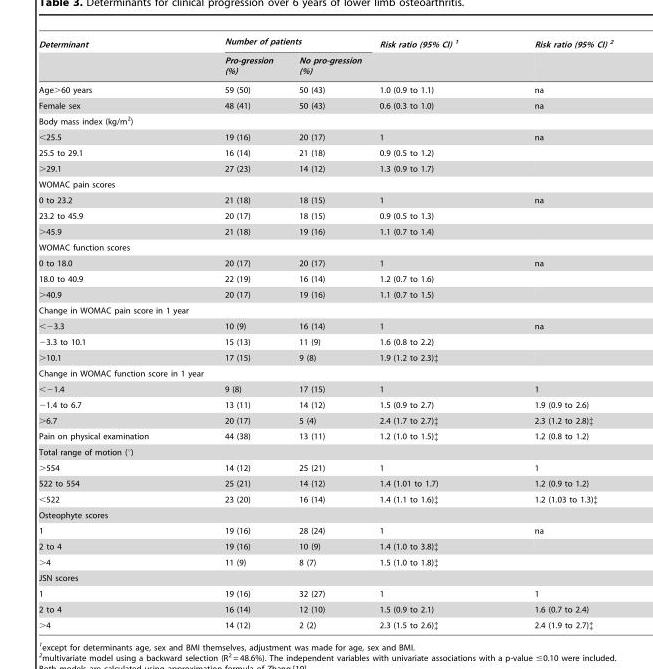table: (37, 36, 613, 630)
table column: (37, 36, 185, 630), (370, 36, 495, 630), (495, 36, 613, 630), (185, 36, 285, 630), (285, 36, 370, 630)
table column header: (37, 36, 613, 80)
table projected row header: (37, 112, 613, 129), (37, 443, 613, 460), (37, 176, 613, 192), (37, 239, 613, 255), (37, 302, 613, 317), (37, 365, 613, 380), (37, 507, 613, 522), (37, 570, 613, 585)
table row: (37, 52, 613, 80), (37, 80, 613, 97), (37, 112, 613, 129), (37, 443, 613, 460), (37, 490, 613, 507), (37, 36, 613, 52), (37, 144, 613, 160), (37, 160, 613, 176), (37, 176, 613, 192), (37, 207, 613, 223), (37, 223, 613, 239), (37, 239, 613, 255), (37, 270, 613, 286), (37, 286, 613, 302), (37, 317, 613, 333), (37, 333, 613, 349), (37, 349, 613, 365), (37, 380, 613, 396), (37, 396, 613, 412), (37, 412, 613, 428), (37, 522, 613, 538), (37, 538, 613, 554), (37, 554, 613, 570), (37, 585, 613, 601), (37, 97, 613, 112), (37, 129, 613, 144), (37, 192, 613, 207), (37, 255, 613, 270), (37, 302, 613, 317), (37, 365, 613, 380), (37, 428, 613, 443), (37, 460, 613, 475), (37, 475, 613, 490), (37, 507, 613, 522), (37, 570, 613, 585), (37, 601, 613, 616), (37, 616, 613, 630)
table spanning cell: (37, 36, 185, 80), (370, 36, 495, 80), (495, 36, 613, 80), (185, 36, 370, 52)
